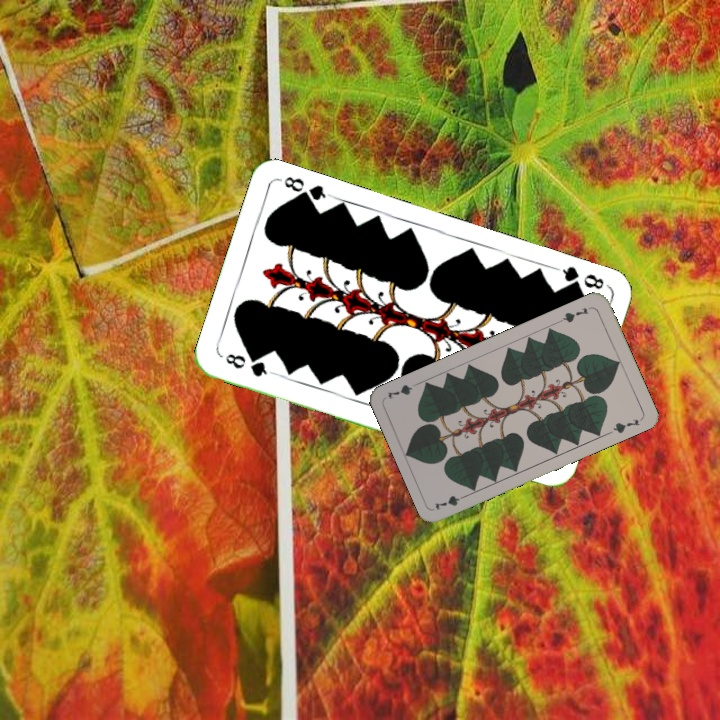G7: (430, 490, 471, 513), (556, 303, 594, 325)
G8: (552, 262, 610, 295), (221, 349, 276, 380)
